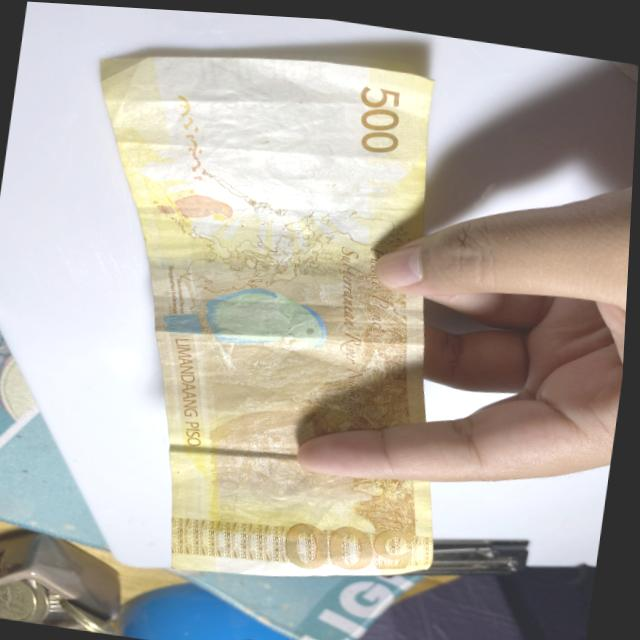500_big_parrot: (159, 265, 338, 358)
500_parrot_watermark: (156, 186, 236, 225)
value_watermark: (223, 86, 270, 112)
